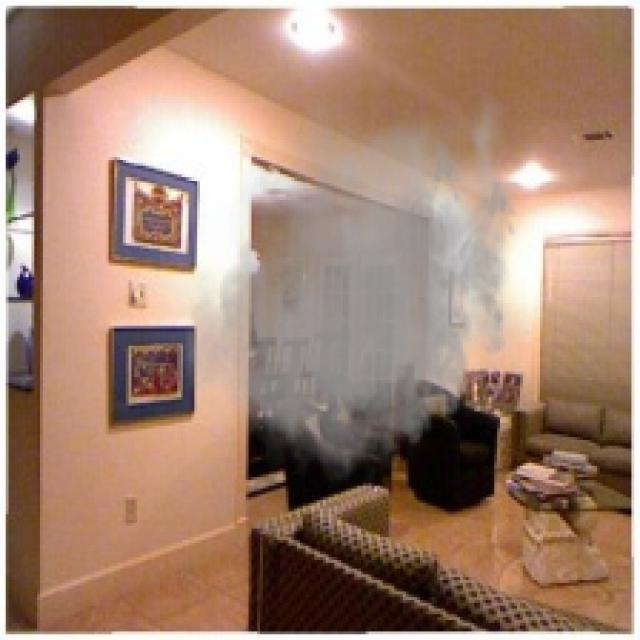smoke: (175, 80, 534, 494)
